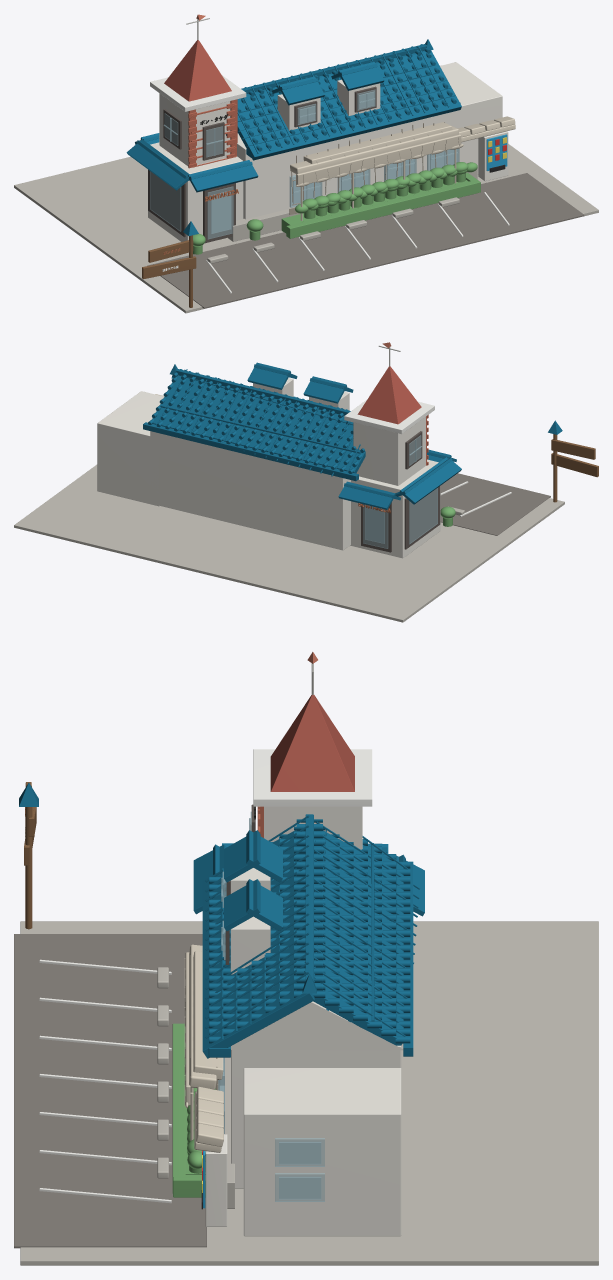
Rendered from bontakeda_shibata.glb.
The picture shows the model from 3 angles, top to bottom: view 1: azimuth 30°, elevation 25°; view 2: azimuth 150°, elevation 25°; view 3: azimuth 270°, elevation 25°; orthographic projection. The views are drawn at different scales.
Visible parts, largest first — view 1: BT1_Parking, BT1_Ground, BT1_MainRoof_LeftSlope, BT1_MainBuilding, BT1_RightAnnex, BT2_PlantBaseFrontBlock, BT1_TowerRedRoof, BT1_TowerBody, BT2_LongCanvasAwning_FrontDrop, BT1_LeftEntranceBlock, BT1_EntranceFrame.003, BT1_FrontCanvasAwning (+24 smaller); view 2: BT1_Ground, BT1_MainBuilding, BT1_MainRoof_RightSlope, BT1_RightAnnex, BT1_Parking, BT1_TowerBody, BT1_LeftEntranceBlock, BT1_TowerRedRoof, BT1_MainRoof_BackEave, BT1_EntranceFrame.003, BT1_EntranceGlassDoor.003, BT1_TowerRoofWhiteEave (+11 smaller); view 3: BT1_Ground, BT1_Parking, BT1_RightAnnex, BT1_MainRoof_LeftSlope, BT1_MainRoof_RightSlope, BT1_TowerRedRoof, BT1_MainBuilding, BT1_RightSmallGableWall, BT1_TowerRoofWhiteEave, BT1_TowerBody, BT2_PlantBaseFrontBlock, BT2_VendingMachineBody (+16 smaller).
Boxes of the visible parts, x1,y1,x2,y2 form: BT1_Parking: (147, 173, 584, 308); BT1_Ground: (14, 144, 598, 313); BT1_MainRoof_LeftSlope: (237, 50, 461, 160); BT1_MainBuilding: (237, 112, 450, 219); BT1_RightAnnex: (440, 62, 502, 174); BT2_PlantBaseFrontBlock: (286, 180, 476, 238); BT1_TowerRedRoof: (164, 40, 231, 101); BT1_TowerBody: (159, 93, 230, 166); BT2_LongCanvasAwning_FrontDrop: (296, 134, 461, 184); BT1_LeftEntranceBlock: (148, 142, 243, 241); BT1_EntranceFrame.003: (148, 169, 185, 237); BT1_FrontCanvasAwning: (303, 122, 452, 163); BT1_Ground: (14, 464, 564, 622); BT1_MainBuilding: (150, 431, 350, 550); BT1_MainRoof_RightSlope: (152, 375, 365, 473); BT1_RightAnnex: (97, 391, 163, 506); BT1_Parking: (440, 473, 550, 535); BT1_TowerBody: (353, 417, 425, 485); BT1_LeftEntranceBlock: (350, 459, 440, 558); BT1_TowerRedRoof: (357, 366, 421, 424); BT1_MainRoof_BackEave: (143, 422, 358, 481); BT1_EntranceFrame.003: (404, 486, 440, 549); BT1_EntranceGlassDoor.003: (409, 488, 437, 544); BT1_TowerRoofWhiteEave: (344, 399, 434, 433); BT1_Ground: (20, 921, 598, 1265); BT1_Parking: (14, 934, 206, 1248); BT1_RightAnnex: (243, 1068, 401, 1236); BT1_MainRoof_LeftSlope: (202, 830, 314, 1058); BT1_MainRoof_RightSlope: (313, 830, 403, 1045); BT1_TowerRedRoof: (270, 695, 354, 791); BT1_MainBuilding: (231, 1001, 401, 1188); BT1_RightSmallGableWall: (231, 1002, 403, 1050); BT1_TowerRoofWhiteEave: (253, 749, 372, 806); BT1_TowerBody: (264, 806, 362, 849); BT2_PlantBaseFrontBlock: (172, 1023, 185, 1193); BT2_VendingMachineBody: (205, 1134, 227, 1226).
Bounding box in the file's own units: 13.69 × 6.11 × 9.1.
